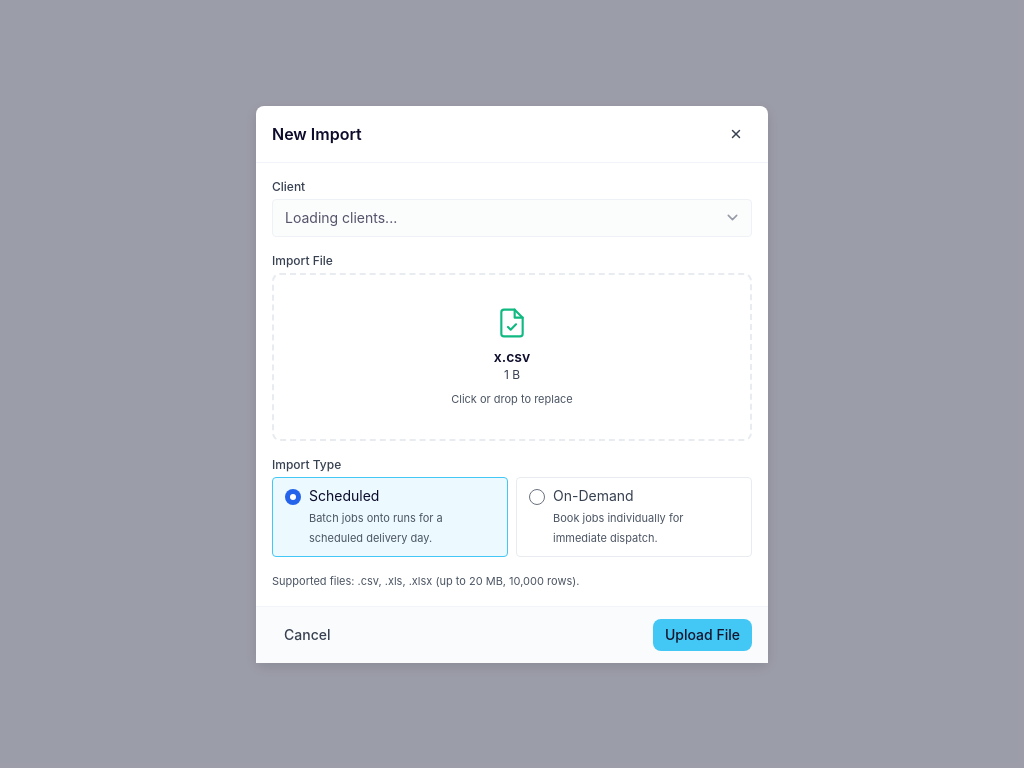
it: NewImportModal › shows a toast when upload fails
Click the button "Upload File" at (702, 634), box x1=653 y1=618 x2=752 y2=650
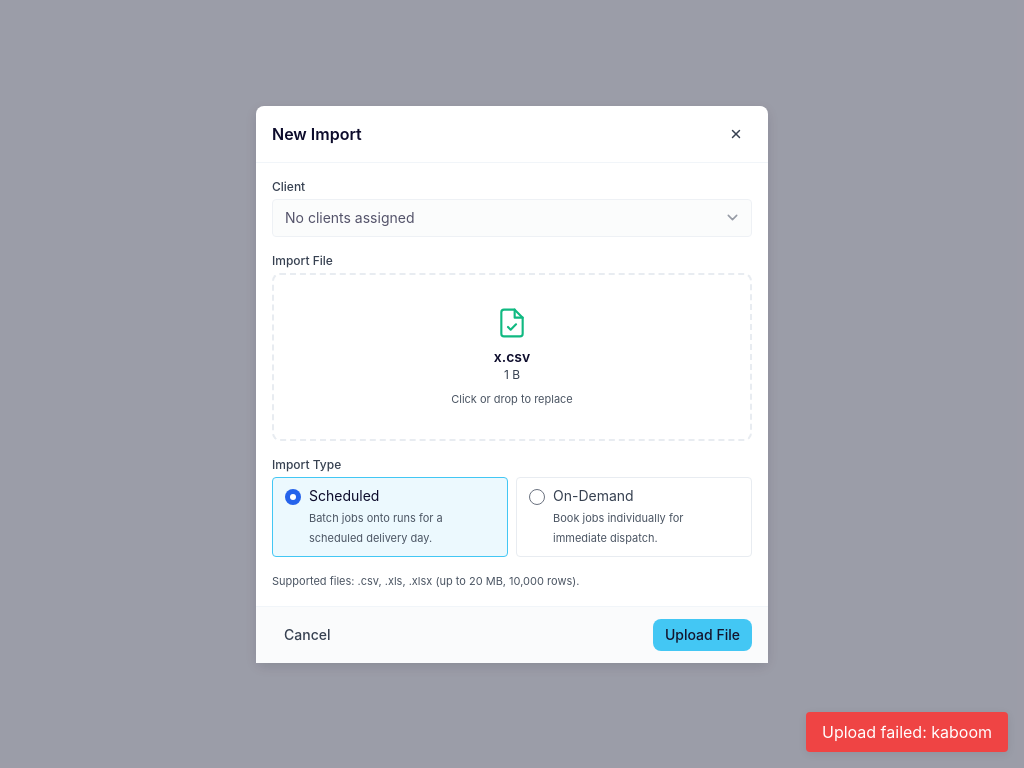
Check: the text "Upload failed: kaboom" is shown, box x1=806 y1=712 x2=1008 y2=752
